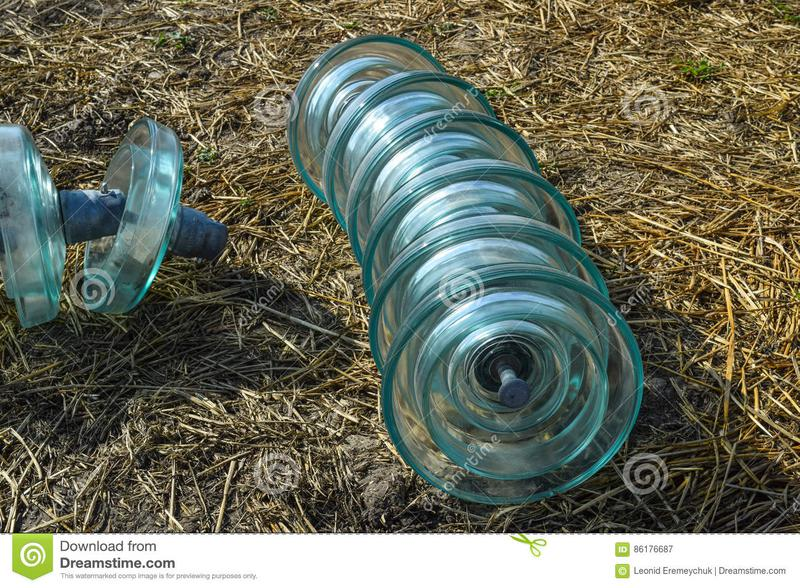isolator: (286, 34, 644, 506), (1, 117, 185, 329)
